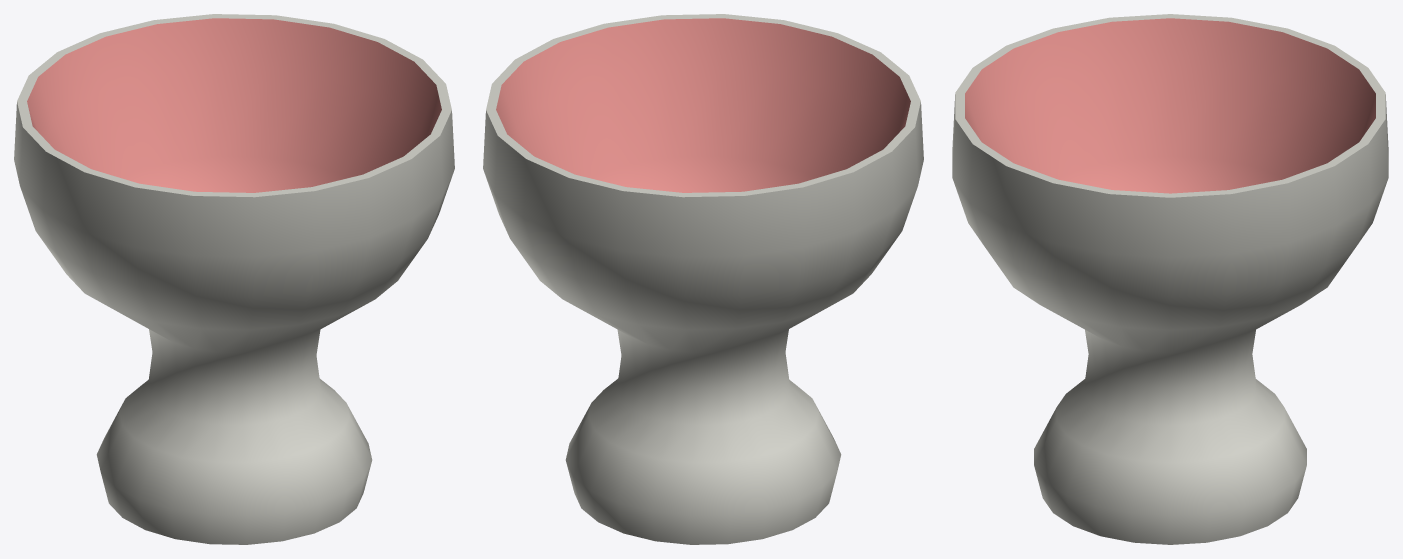
The model's file is OT_205_a_small_cup.glb.
The picture shows the model from 3 angles, left to right: view 1: azimuth 30°, elevation 25°; view 2: azimuth 150°, elevation 25°; view 3: azimuth 270°, elevation 25°; orthographic projection.
Visible parts, largest first — view 1: cup; view 2: cup; view 3: cup.
Boxes of the visible parts, box(x1,y1,x2,y2) form: cup: box(14, 14, 454, 544); cup: box(483, 14, 923, 544); cup: box(952, 14, 1388, 544).
Size of the model in its own units: 0.2424 by 0.2333 by 0.24.
